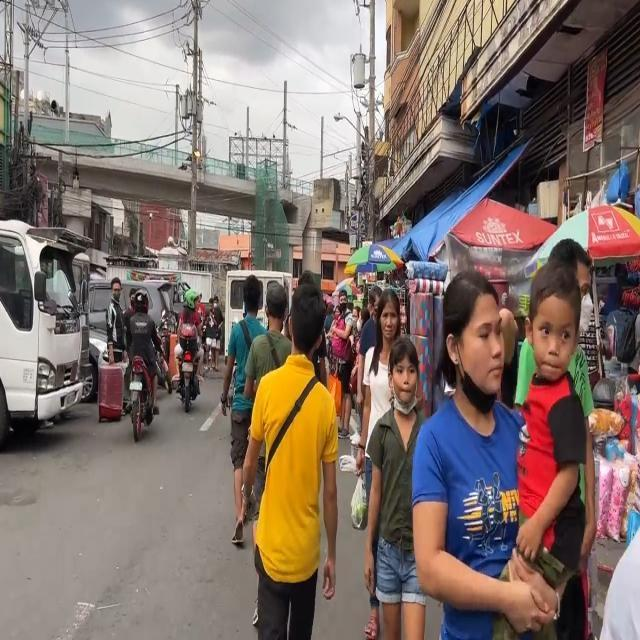hairnet: (457, 302, 504, 409), (392, 352, 418, 414)
